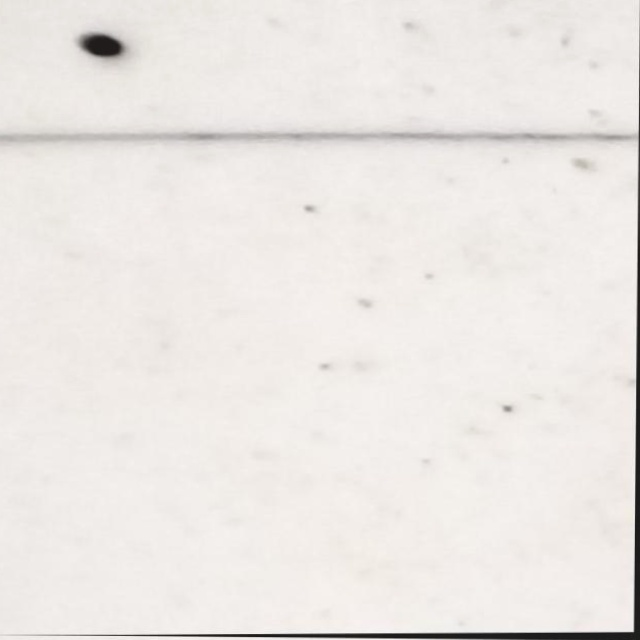varroa: (74, 31, 130, 62)
